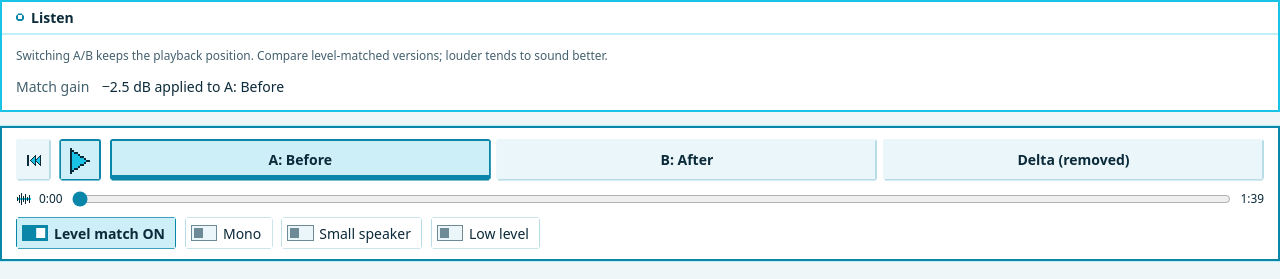
it: Listen › applies the match gain from the data by default, and toggling level match changes the gain
Later steps or results of the test are not shown.
Check: the text with test id "match-readout" shows "−2.5 dB", box [102, 77, 284, 96]
Click the switch with test id "level-match" at (96, 233), box [16, 217, 176, 249]
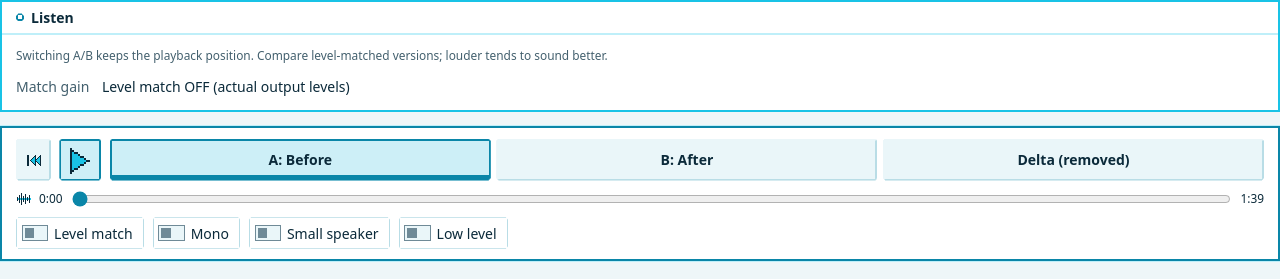
Check: the switch with test id "level-match" is not checked, box [16, 217, 144, 249]
